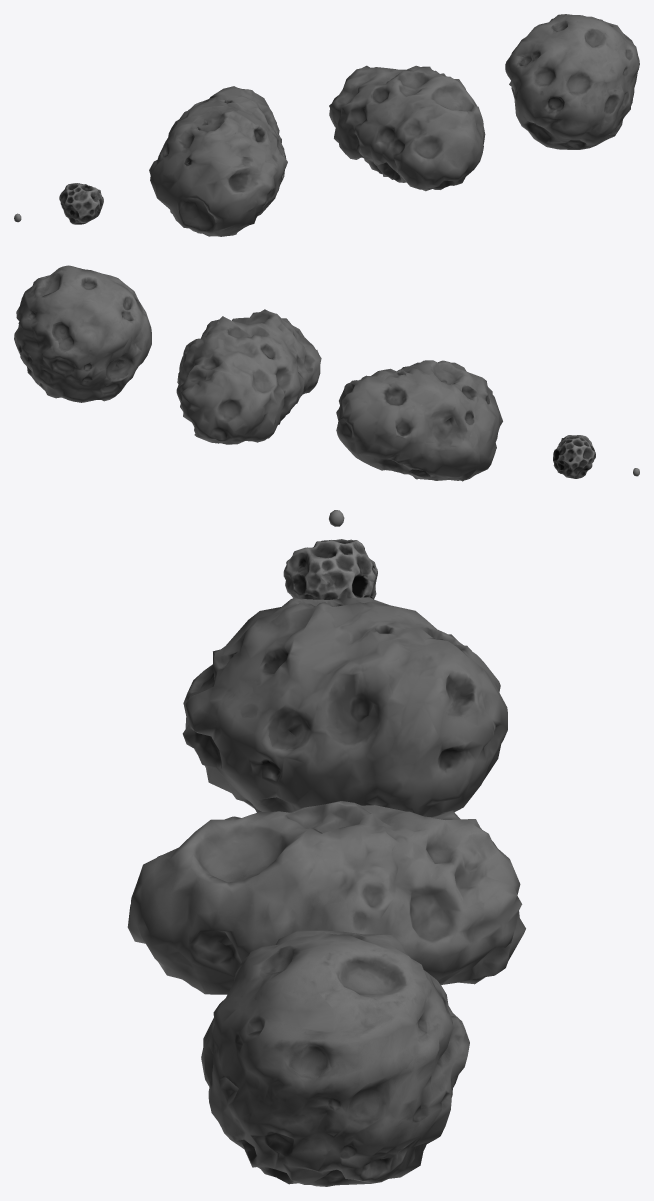
Rendered from Asteroid5.fbx.
The picture shows the model from 3 angles, top to bottom: view 1: azimuth 30°, elevation 25°; view 2: azimuth 150°, elevation 25°; view 3: azimuth 270°, elevation 25°; orthographic projection. The views are drawn at different scales.
Visible parts, largest first — view 1: Asteroid3, Asteroid2, Asteroid4, Asteroid1; view 2: Asteroid2, Asteroid4, Asteroid3, Asteroid1; view 3: Asteroid2, Asteroid4, Asteroid3, Asteroid1.
Boxes of the visible parts, x1,y1,x2,y2 form: Asteroid3: (329,65,485,191); Asteroid2: (149,86,287,236); Asteroid4: (505,14,639,149); Asteroid1: (59,183,103,224); Asteroid2: (336,360,502,481); Asteroid4: (14,265,151,402); Asteroid3: (176,309,321,444); Asteroid1: (553,435,595,478); Asteroid2: (182,597,507,816); Asteroid4: (201,930,469,1186); Asteroid3: (127,801,525,994); Asteroid1: (283,539,377,599).
Bounding box in the file's own units: 3886 × 732 × 1088.
5 materials, 4 textured.
